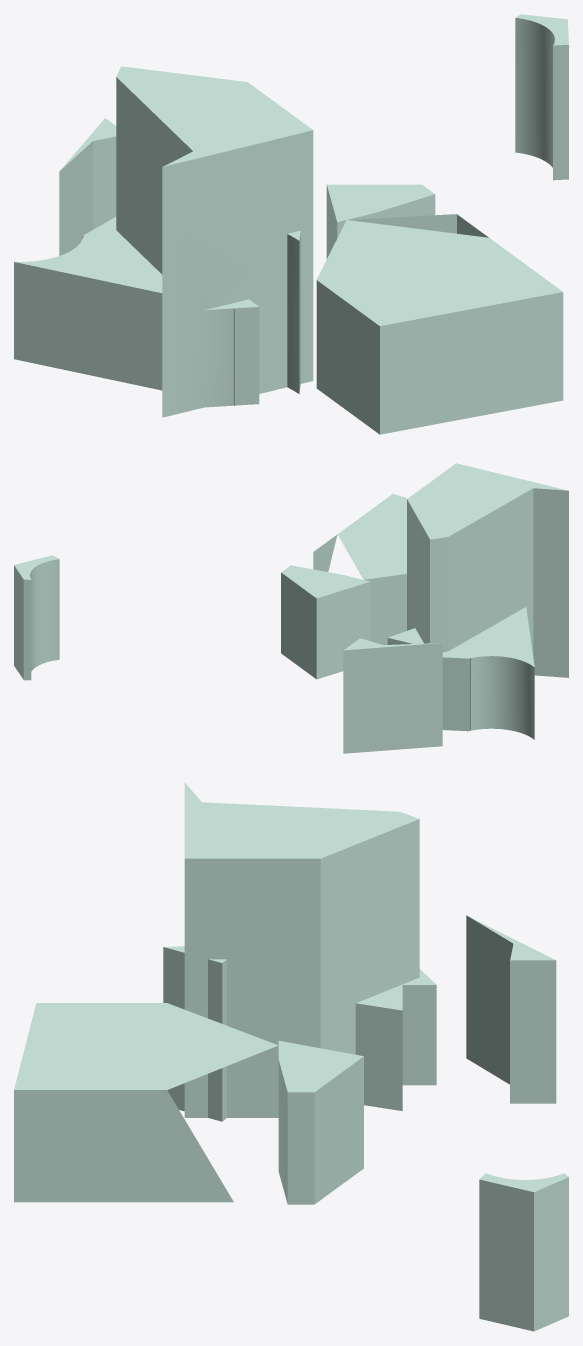
3 views of the same model, one above another, from view 1: azimuth 30°, elevation 25°; view 2: azimuth 150°, elevation 25°; view 3: azimuth 270°, elevation 25° (orthographic). The views are drawn at different scales.
Visible parts, largest first — view 1: Renderer Node; view 2: Renderer Node; view 3: Renderer Node.
Boxes of the visible parts, x1=… form: Renderer Node: x1=14, y1=14, x2=568, y2=434; Renderer Node: x1=14, y1=463, x2=568, y2=753; Renderer Node: x1=14, y1=783, x2=568, y2=1331.
Bounding box in the file's own units: 1.37 × 0.5234 × 1.02.
